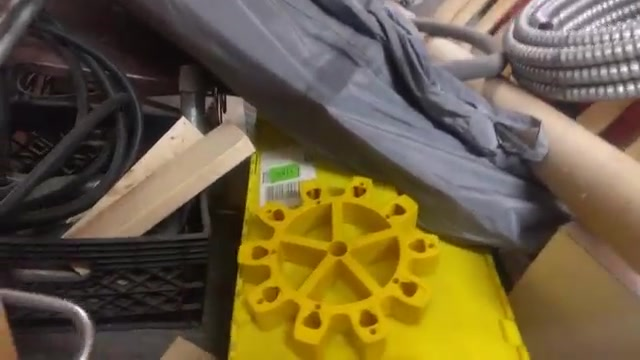gear: (236, 159, 444, 360)
